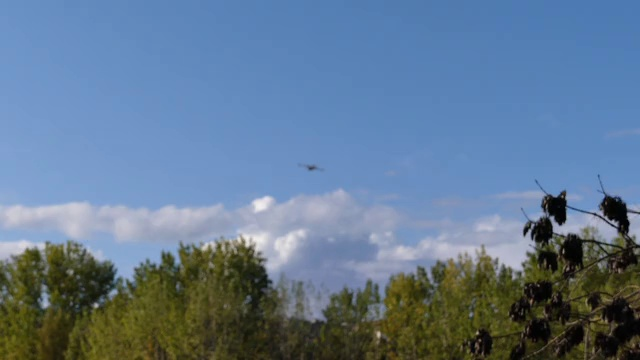plane: (297, 163, 325, 172)
